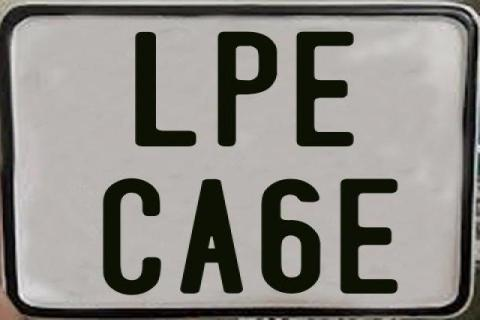0: (260, 176, 325, 296)
A: (179, 178, 243, 292)
C: (100, 177, 159, 296)
E: (294, 29, 357, 149), (339, 178, 398, 296)
L: (134, 30, 201, 150)
P: (216, 31, 277, 146)
